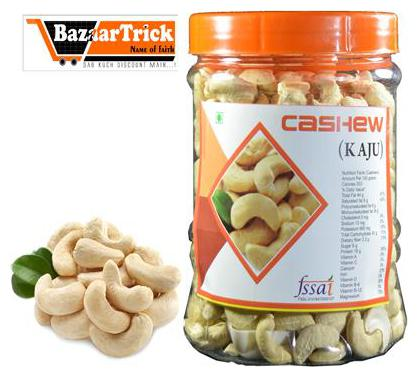fssai: (294, 274, 337, 295)
